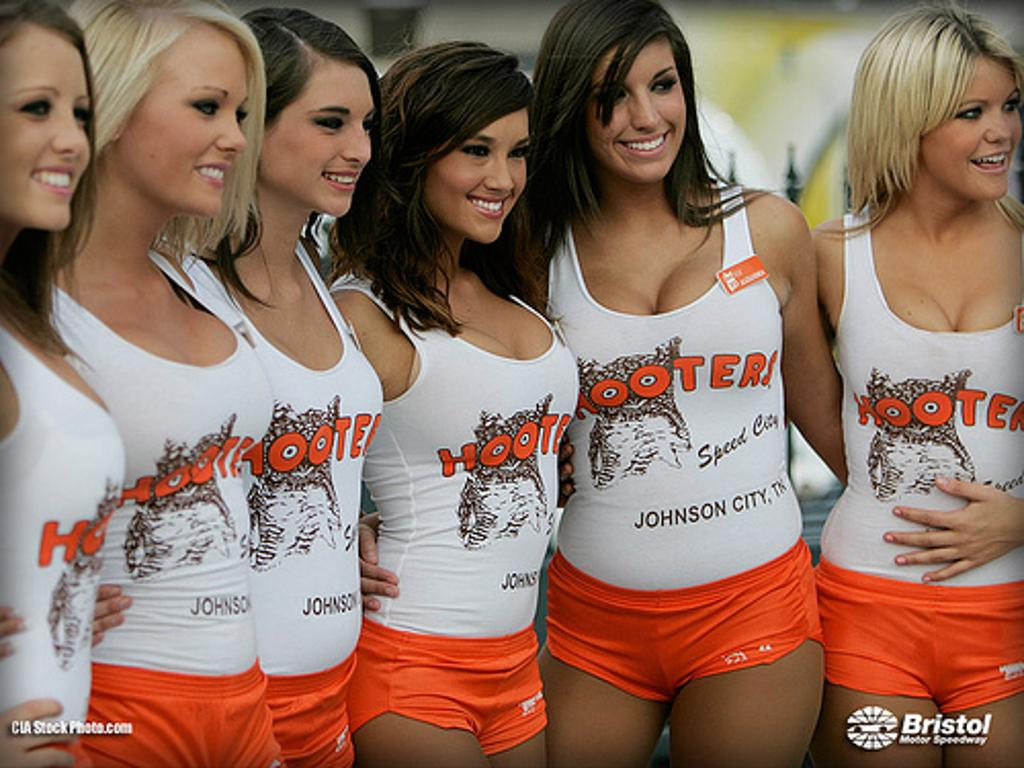face: (128, 28, 246, 212), (8, 26, 96, 222), (264, 60, 374, 216), (420, 98, 526, 246), (578, 36, 684, 180), (920, 52, 1020, 200)
